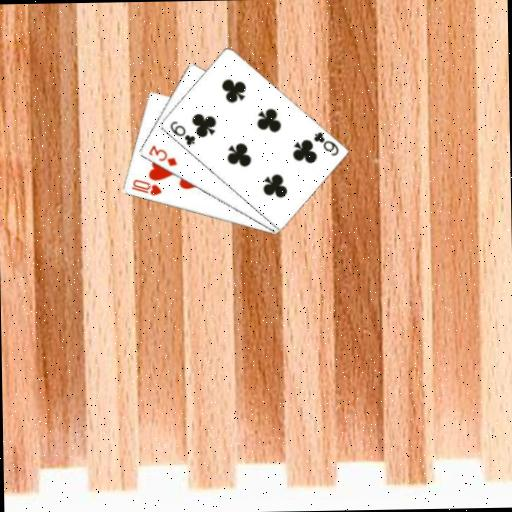10H: (129, 176, 164, 198)
3D: (145, 141, 178, 168)
6C: (166, 118, 197, 148), (310, 129, 340, 158)
